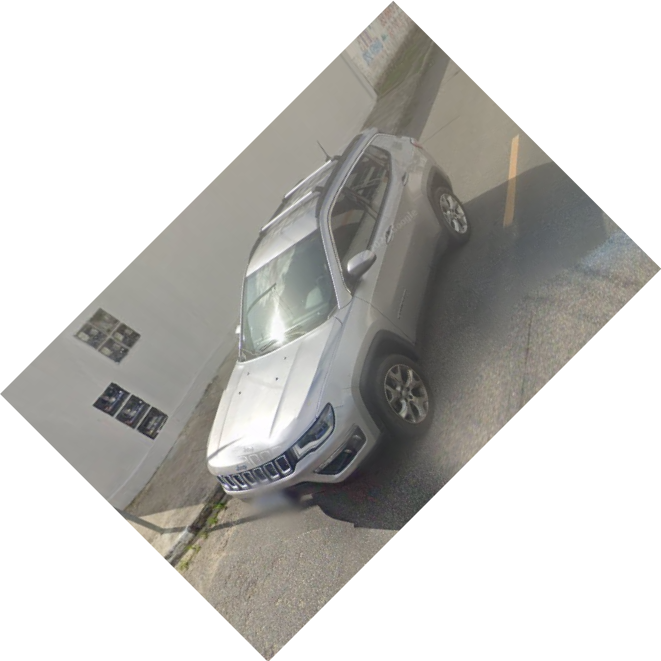car: (203, 125, 472, 513)
